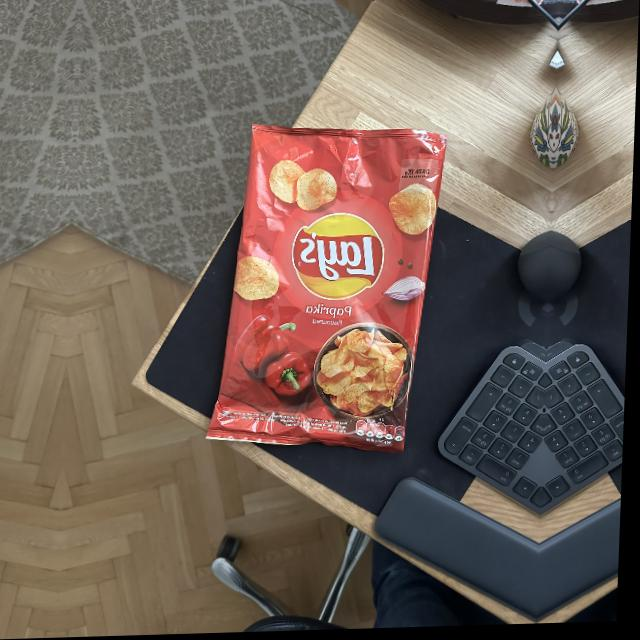lays: (294, 216, 387, 304)
